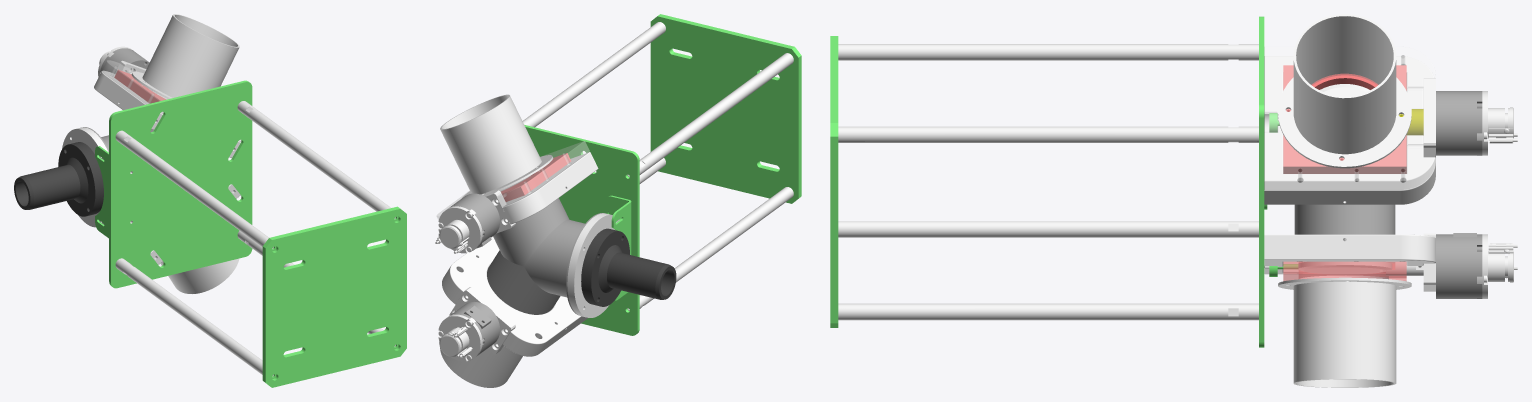
Rendered from 25-5147-10_14__BUTTER_FLY_ASSY_SUB_ASSY.glb.
3 renders of one model, left to right at view 1: azimuth 30°, elevation 25°; view 2: azimuth 150°, elevation 25°; view 3: azimuth 270°, elevation 25°, orthographic. The views are drawn at different scales.
Parts seen in each view (by area): view 1: 25-5147-10 14 102 200_BUTTER_FLY_STAND_ASSY BANTI UPDATE, PIPE DIA 100-1 (×2), 25-5147-10 14_ BUTTER_FLY_ASSY_SUB_ASSY, 25-5147-10 14 101 200_ BUTTER_FLY ASSY (×2), CDRB2BJ40-90SZ-M9PL(B_0)0-1/CDRB2BJ40-90SJZ(0)_BODY-1; view 2: 25-5147-10 14 102 200_BUTTER_FLY_STAND_ASSY BANTI UPDATE, 25-5147-10 14 101 200_ BUTTER_FLY ASSY (×3), PIPE DIA 100-1 (×2), 25-5147-10 14_ BUTTER_FLY_ASSY_SUB_ASSY, HOAYF100.stp-1, CDRB2BJ40-90SZ-M9PL(B_0)0-1/P611010-1-M9P_CRB2-1 (×2), CDRB2BJ40-90SZ-M9PL(B_0)0-1/CDRB2BJ40-90SJZ(0)_BODY-1 (×2); view 3: 25-5147-10 14 102 200_BUTTER_FLY_STAND_ASSY BANTI UPDATE, 25-5147-10 14 101 200_ BUTTER_FLY ASSY (×3), PIPE DIA 100-1 (×2), CDRB2BJ40-90SZ-M9PL(B_0)0-1/CDRB2BJ40-90SJZ(0)_BODY-1 (×2), HOAYF100.stp-1, CDRB2BJ40-90SZ-M9PL(B_0)0-1/P611010-1-M9P_CRB2-1 (×2).
Part boxes in pixels (box(x1,y1,x2,y2)): 25-5147-10 14 102 200_BUTTER_FLY_STAND_ASSY BANTI UPDATE: box(109, 80, 406, 387); PIPE DIA 100-1 (×2): box(131, 14, 239, 293); 25-5147-10 14_ BUTTER_FLY_ASSY_SUB_ASSY: box(14, 127, 108, 238); 25-5147-10 14 101 200_ BUTTER_FLY ASSY (×2): box(94, 60, 240, 157); CDRB2BJ40-90SZ-M9PL(B_0)0-1/CDRB2BJ40-90SJZ(0)_BODY-1: box(100, 48, 149, 73); 25-5147-10 14 102 200_BUTTER_FLY_STAND_ASSY BANTI UPDATE: box(522, 14, 801, 335); 25-5147-10 14 101 200_ BUTTER_FLY ASSY (×3): box(437, 141, 598, 356); PIPE DIA 100-1 (×2): box(440, 94, 553, 387); 25-5147-10 14_ BUTTER_FLY_ASSY_SUB_ASSY: box(567, 195, 676, 317); HOAYF100.stp-1: box(487, 198, 603, 315); CDRB2BJ40-90SZ-M9PL(B_0)0-1/P611010-1-M9P_CRB2-1 (×2): box(438, 206, 482, 361); CDRB2BJ40-90SZ-M9PL(B_0)0-1/CDRB2BJ40-90SJZ(0)_BODY-1 (×2): box(448, 193, 499, 355); 25-5147-10 14 102 200_BUTTER_FLY_STAND_ASSY BANTI UPDATE: box(830, 16, 1264, 347); 25-5147-10 14 101 200_ BUTTER_FLY ASSY (×3): box(1264, 47, 1435, 291); PIPE DIA 100-1 (×2): box(1278, 14, 1411, 387); CDRB2BJ40-90SZ-M9PL(B_0)0-1/CDRB2BJ40-90SJZ(0)_BODY-1 (×2): box(1436, 91, 1482, 298); HOAYF100.stp-1: box(1294, 204, 1395, 241); CDRB2BJ40-90SZ-M9PL(B_0)0-1/P611010-1-M9P_CRB2-1 (×2): box(1477, 91, 1513, 298).
Size of the model in its own units: 0.33 by 0.4012 by 0.6686.
